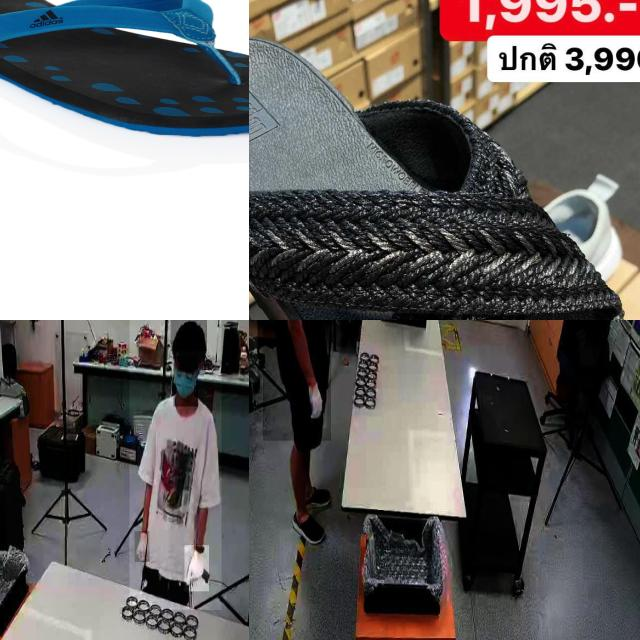Sandals: (249, 11, 640, 320), (0, 0, 249, 138)
face_mask: (174, 356, 198, 406)
hand_glove: (184, 545, 210, 592), (304, 378, 327, 429), (134, 531, 150, 563)
head_nohelmet: (170, 320, 207, 352)
person: (129, 320, 222, 610), (262, 320, 331, 441)
shoes: (291, 504, 329, 550)
